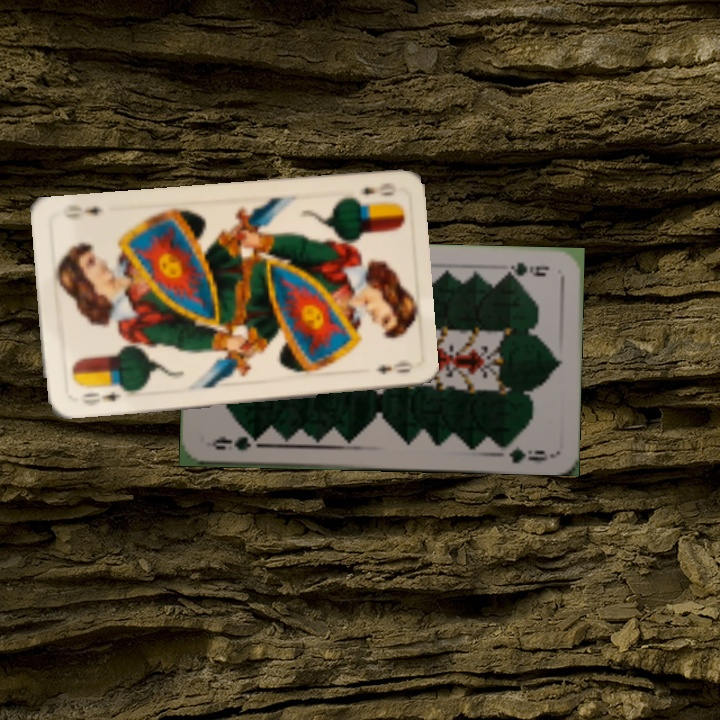EO: (359, 178, 399, 199), (76, 387, 123, 404)
G9: (204, 432, 263, 453), (499, 258, 552, 280)
